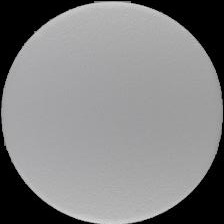42806-058: (0, 0, 224, 224)
